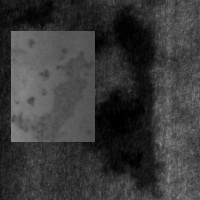patches: (72, 75, 156, 176), (112, 3, 158, 72), (68, 30, 106, 63), (14, 1, 54, 29)
pitted_surface: (11, 31, 95, 142)
